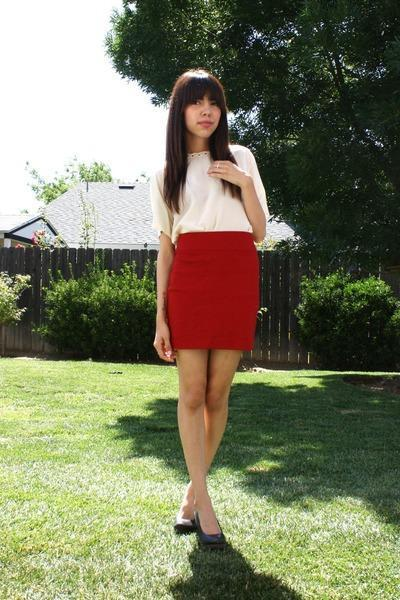shirt: (160, 145, 260, 242)
shoe: (180, 516, 225, 550)
skirt: (162, 231, 261, 351)
